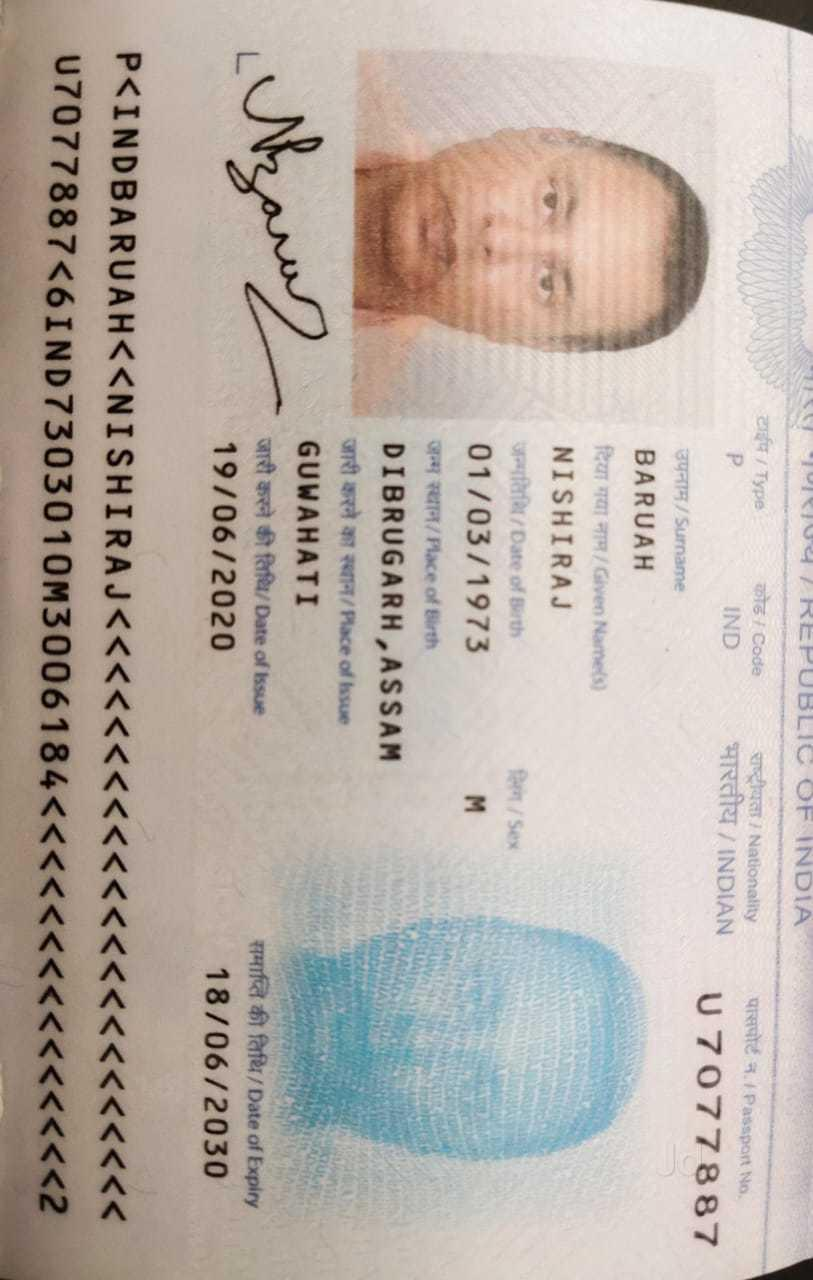DOB: (455, 435, 502, 661)
Surname: (623, 437, 668, 595)
country_code: (710, 591, 745, 665)
date_of_expiry: (192, 941, 238, 1191)
date_of_issue: (194, 420, 243, 661)
details: (20, 22, 136, 1231)
name: (540, 432, 585, 622)
nationality: (712, 728, 743, 934)
passport_no: (677, 973, 737, 1255)
photo: (353, 33, 733, 420)
place_of_birth: (372, 432, 425, 783)
place_of_issue: (288, 434, 332, 620)
sex: (447, 771, 491, 829)
sign: (232, 65, 340, 409)
type: (722, 434, 749, 486)
